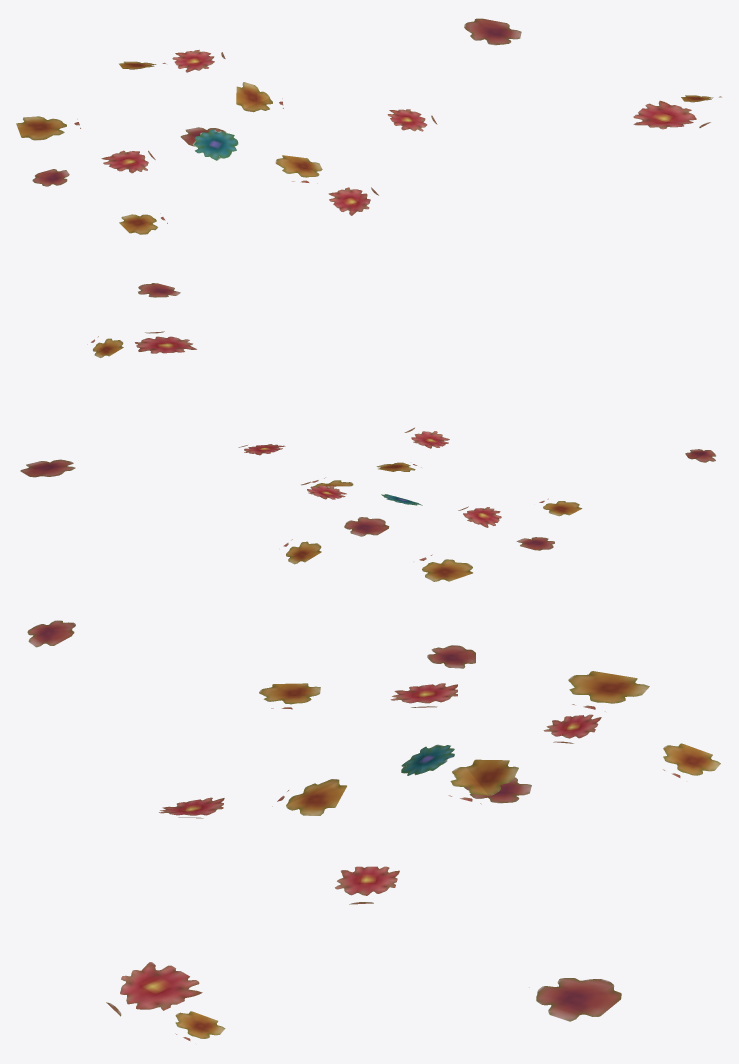
The model's file is Yland3_zb_02 Yland3.FBX.
The picture shows the model from 3 angles, top to bottom: view 1: azimuth 30°, elevation 25°; view 2: azimuth 150°, elevation 25°; view 3: azimuth 270°, elevation 25°; orthographic projection. The views are drawn at different scales.
Parts seen in each view (by area): view 1: Yland3_zb_02 Yland3; view 2: Yland3_zb_02 Yland3; view 3: Yland3_zb_02 Yland3.
Part boxes in pixels (left/top/right/bottom): Yland3_zb_02 Yland3: left=16, top=18, right=721, bottom=297; Yland3_zb_02 Yland3: left=20, top=331, right=716, bottom=581; Yland3_zb_02 Yland3: left=27, top=620, right=720, bottom=1040.
Size of the model in its own units: 23.37 by 1.94 by 15.79.
